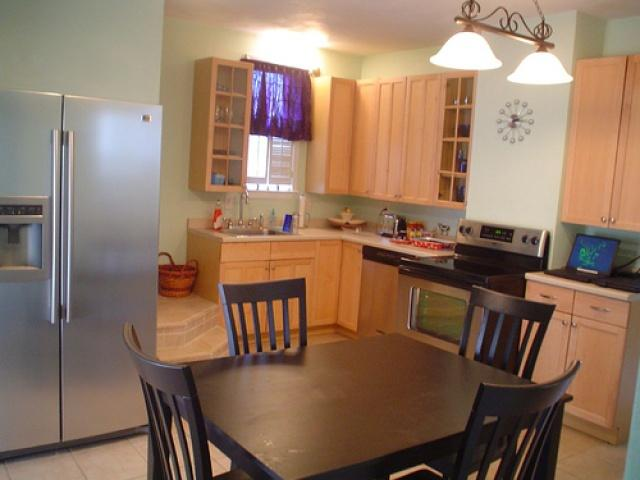Lemari: (324, 68, 447, 206), (558, 54, 639, 230)
Meja: (153, 330, 574, 479)
